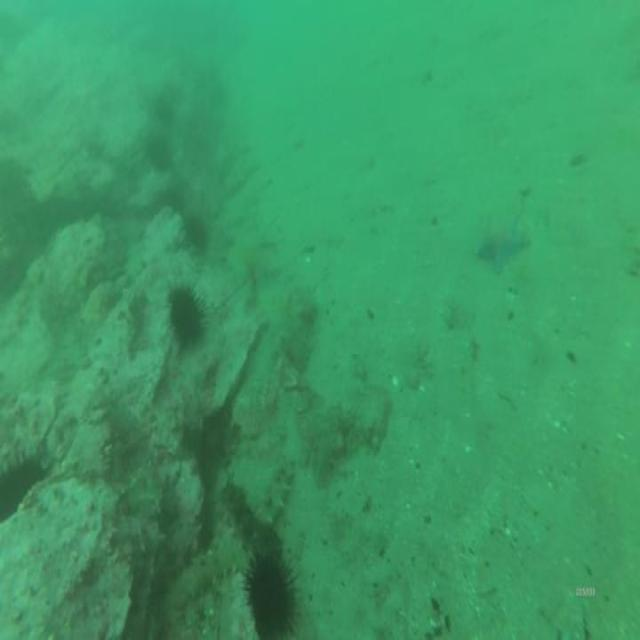echinus: (245, 558, 292, 640), (169, 289, 204, 348), (183, 215, 208, 256), (146, 133, 170, 172)
holothurian: (172, 537, 247, 610), (257, 457, 294, 523)
starfish: (477, 216, 528, 268)
